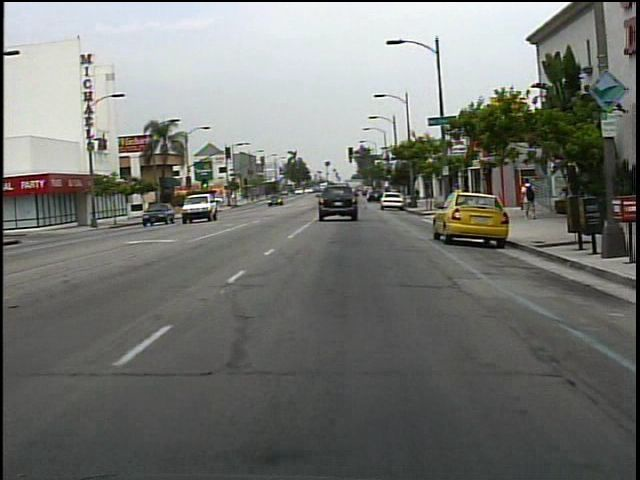person: (515, 173, 541, 223)
